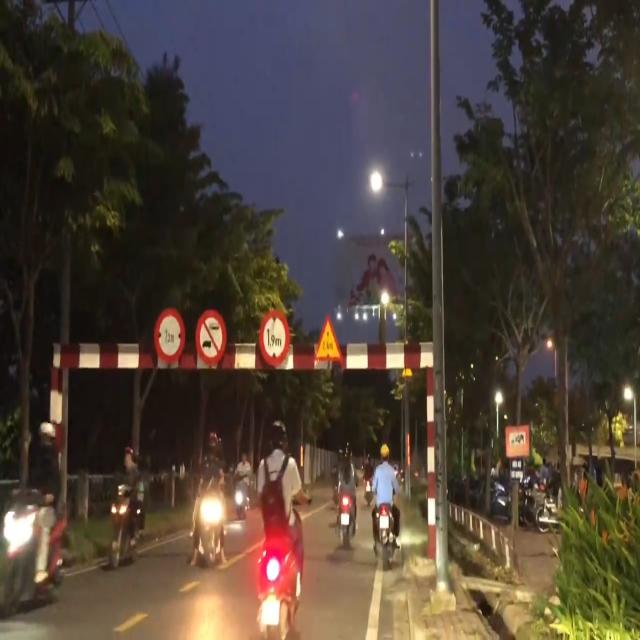Bien bao cam xe oto khach va xe oto tai: (195, 305, 229, 367)
Bien bao chieu cao tinh khong thuc te: (312, 311, 344, 371)
Bien bao han che chieu cao: (257, 305, 294, 373)
